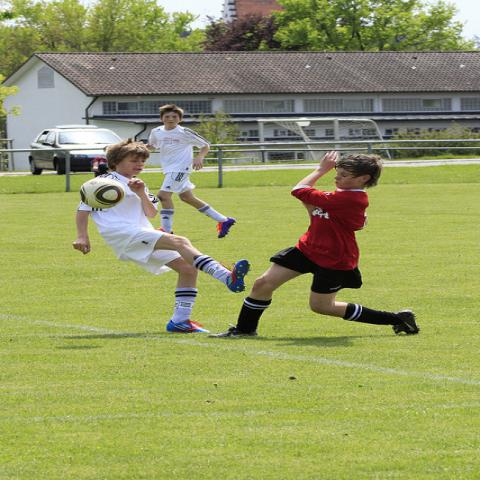car: (29, 128, 125, 166)
